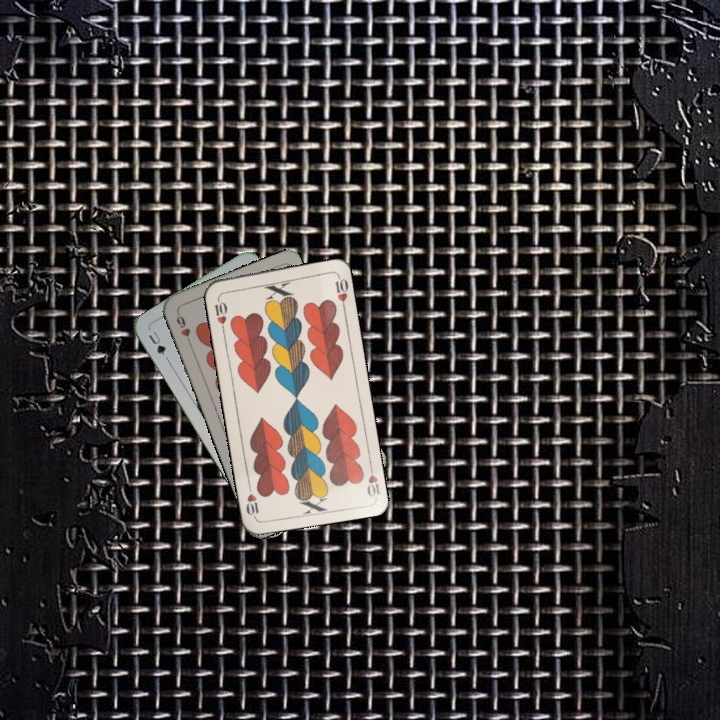GU: (144, 326, 171, 363)
H10: (210, 293, 230, 333), (363, 459, 382, 499)
H9: (172, 308, 194, 347)
